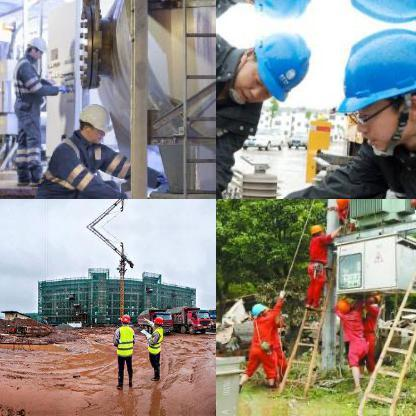Helmet: (327, 26, 415, 152), (238, 28, 320, 108), (327, 0, 415, 23), (237, 0, 322, 22), (76, 100, 110, 142), (24, 34, 46, 63), (250, 300, 266, 316), (308, 220, 324, 236), (336, 298, 352, 312), (118, 312, 130, 324), (334, 199, 350, 208), (154, 314, 162, 324)
